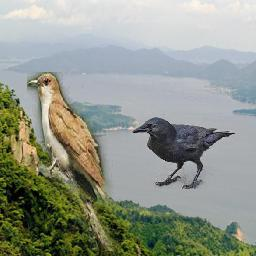Crow: (133, 117, 236, 189)
Cuckoo: (27, 73, 129, 252)
